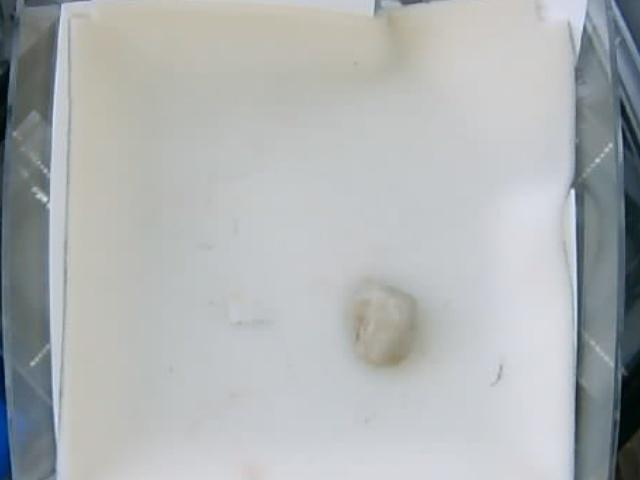Pebble: (350, 281, 419, 367)
